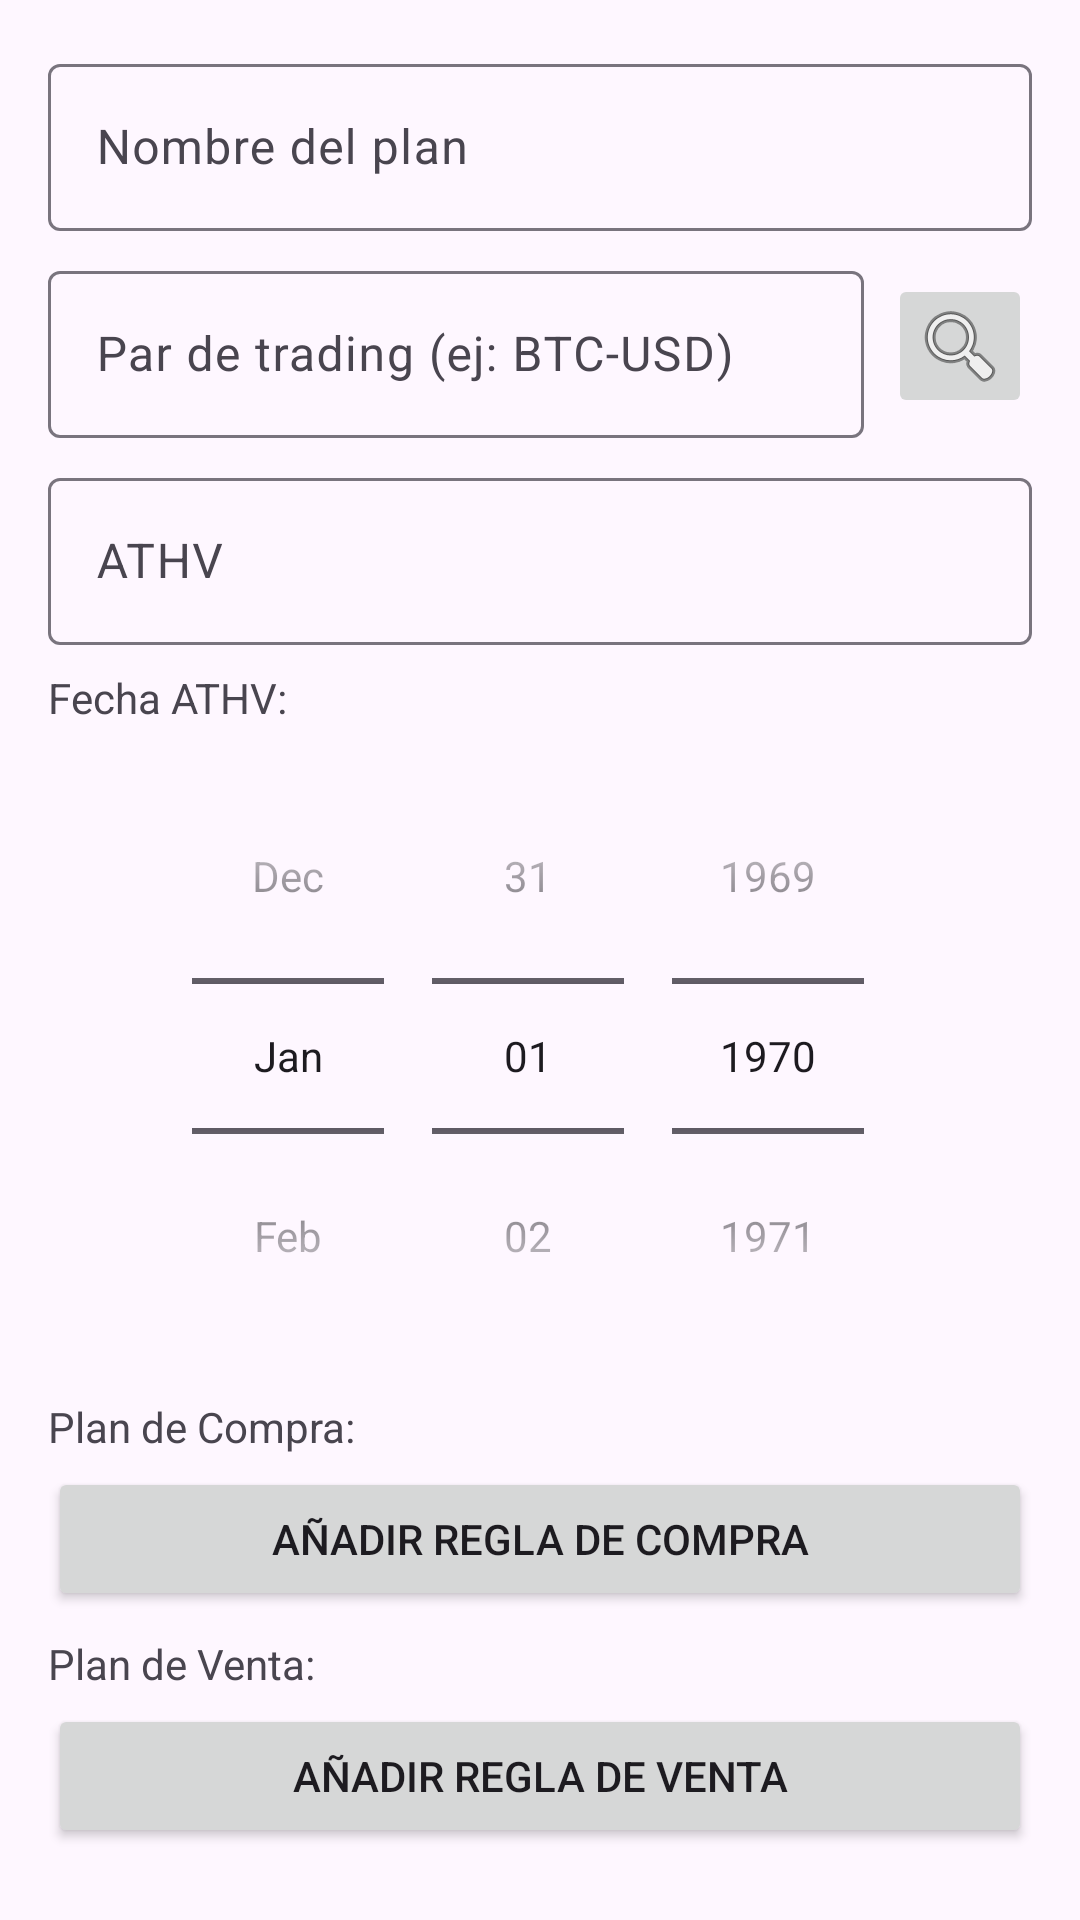

Where icons sit on this 1080px×1920px app screen, as (x1, y1, x2, y2):
Buscar criptomonedas: (900, 292, 1020, 400)
